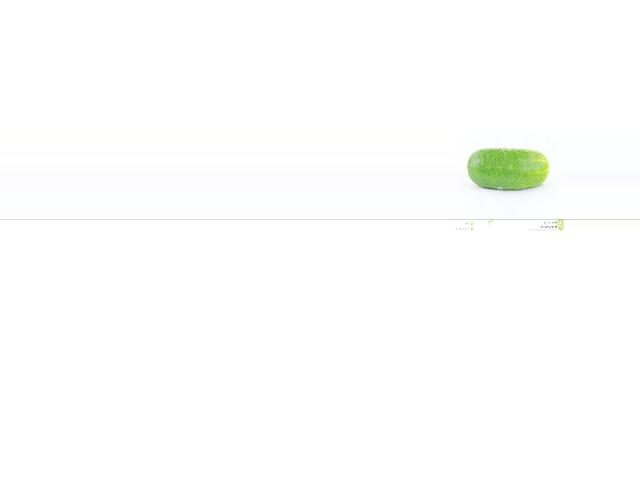cucumber: (466, 149, 548, 190)
